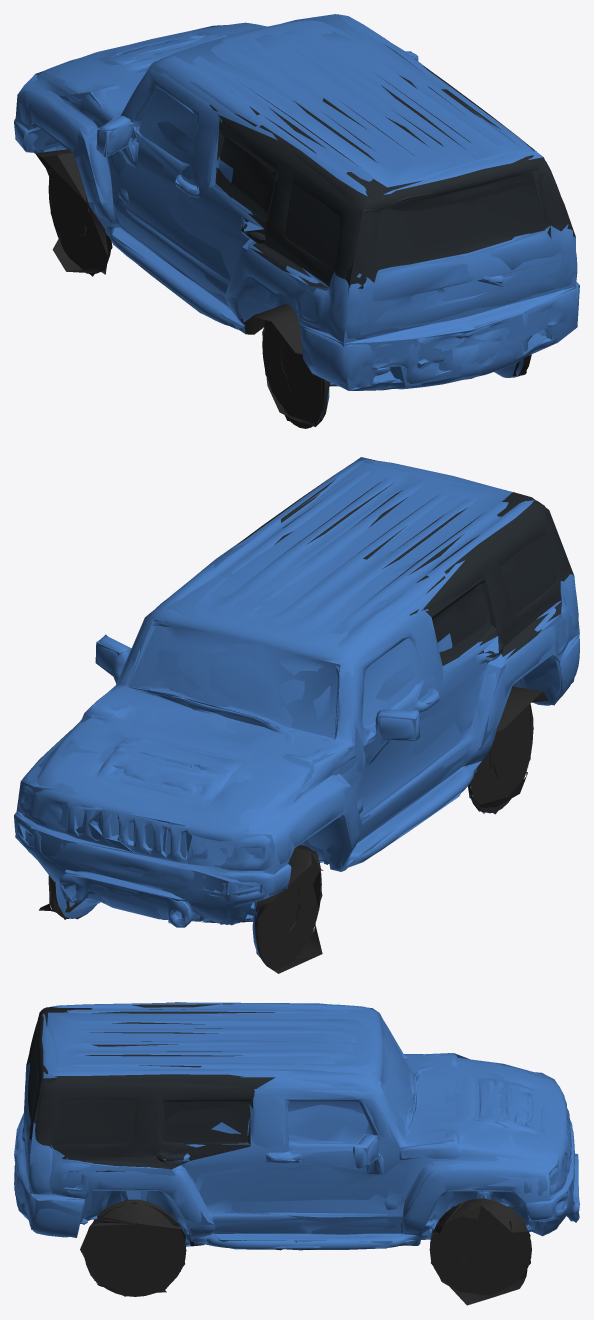
Rendered from hummer-h3.glb.
3 views of the same model, one above another, from view 1: azimuth 30°, elevation 25°; view 2: azimuth 150°, elevation 25°; view 3: azimuth 270°, elevation 25° (orthographic). The views are drawn at different scales.
Visible parts, largest first — view 1: body, far; view 2: body, far; view 3: body, far.
Part boxes in pixels (x1,y1,x2,y2): body: (14, 14, 579, 428); far: (15, 14, 579, 426); body: (14, 459, 579, 973); far: (15, 457, 579, 972); body: (14, 1002, 579, 1305); far: (14, 1002, 579, 1296).
Bounding box in the file's own units: 2.55 × 2.05 × 4.8.
